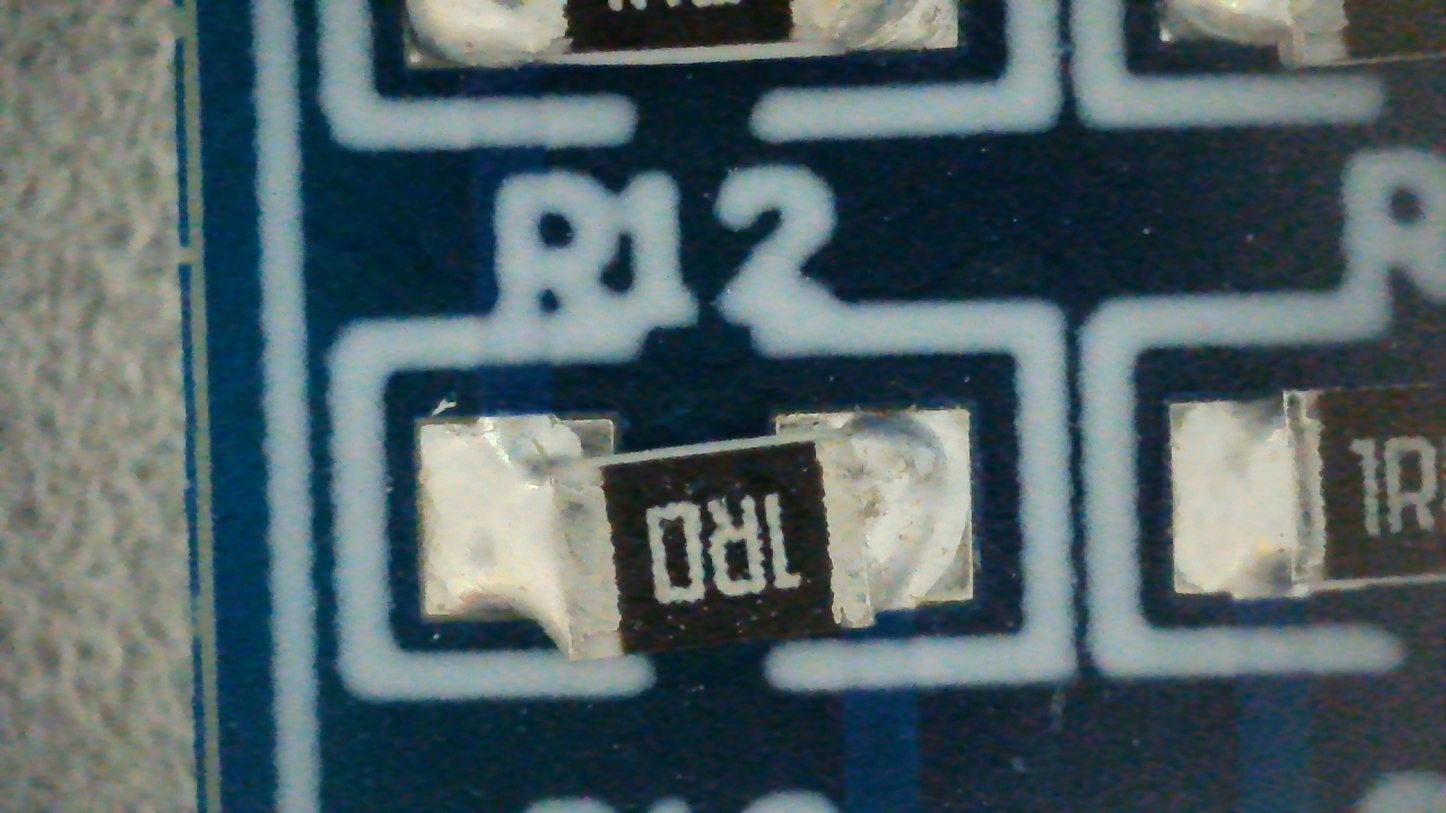NG: (418, 410, 975, 659)
